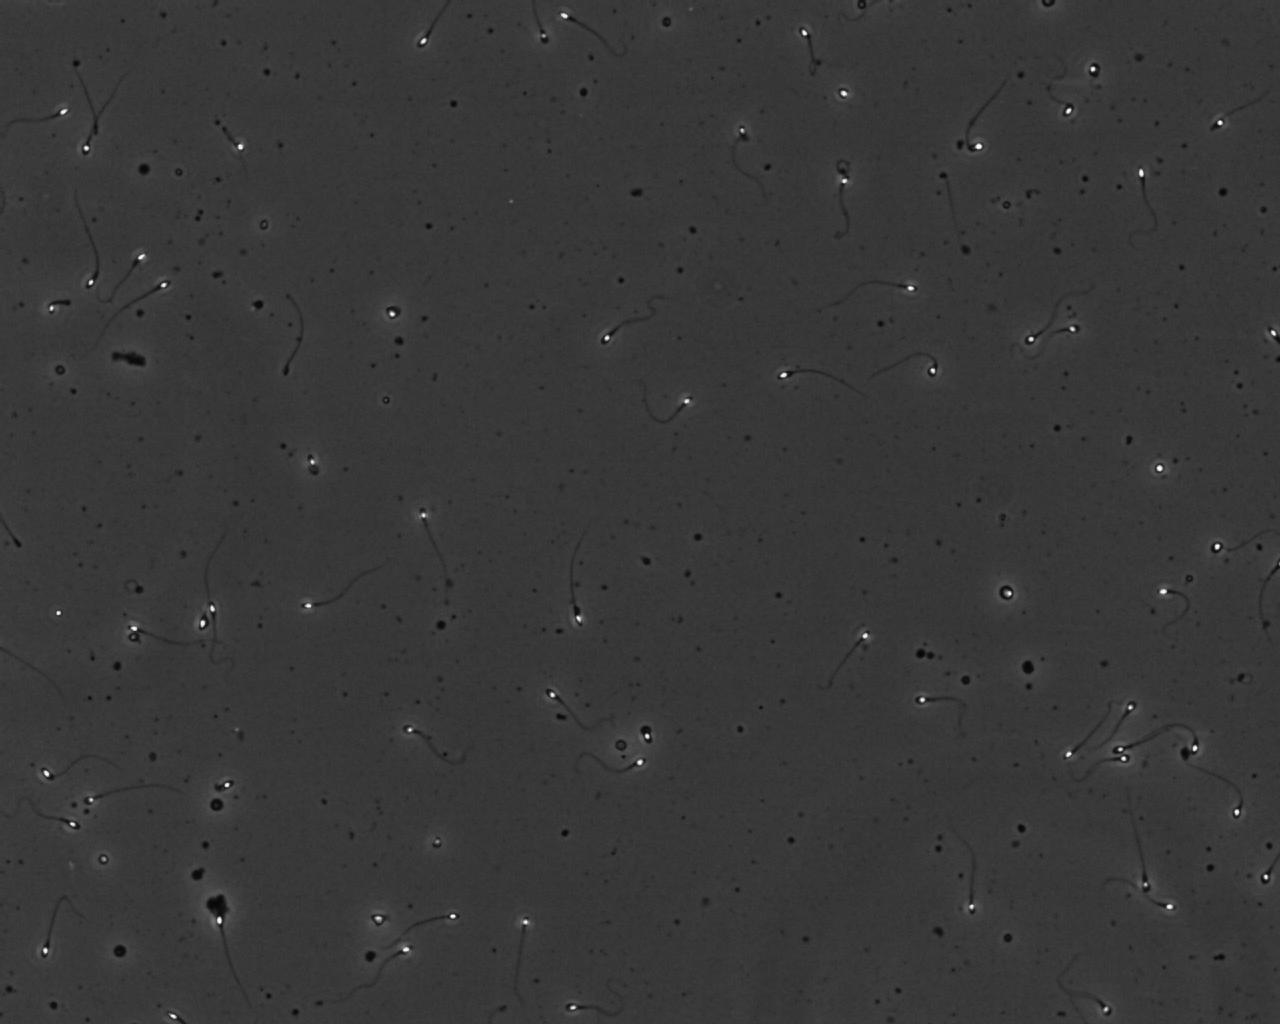cell: (994, 581, 1017, 605)
